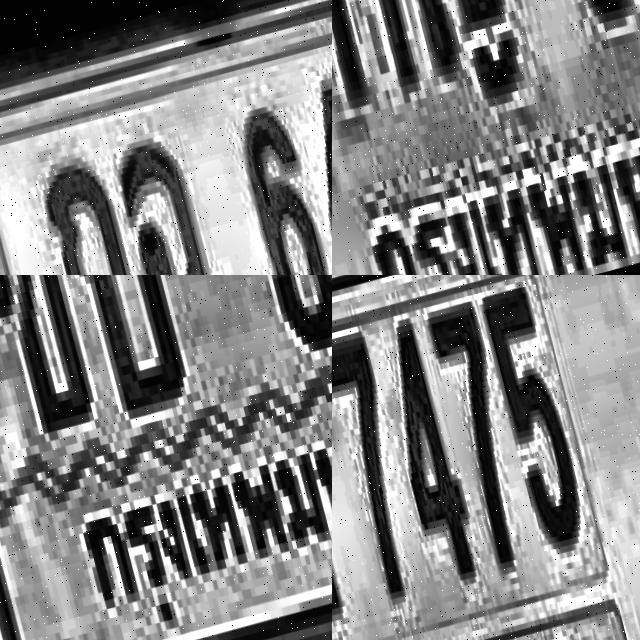license-plate: (0, 275, 332, 640), (332, 275, 640, 640), (0, 0, 332, 275), (332, 0, 640, 275)
